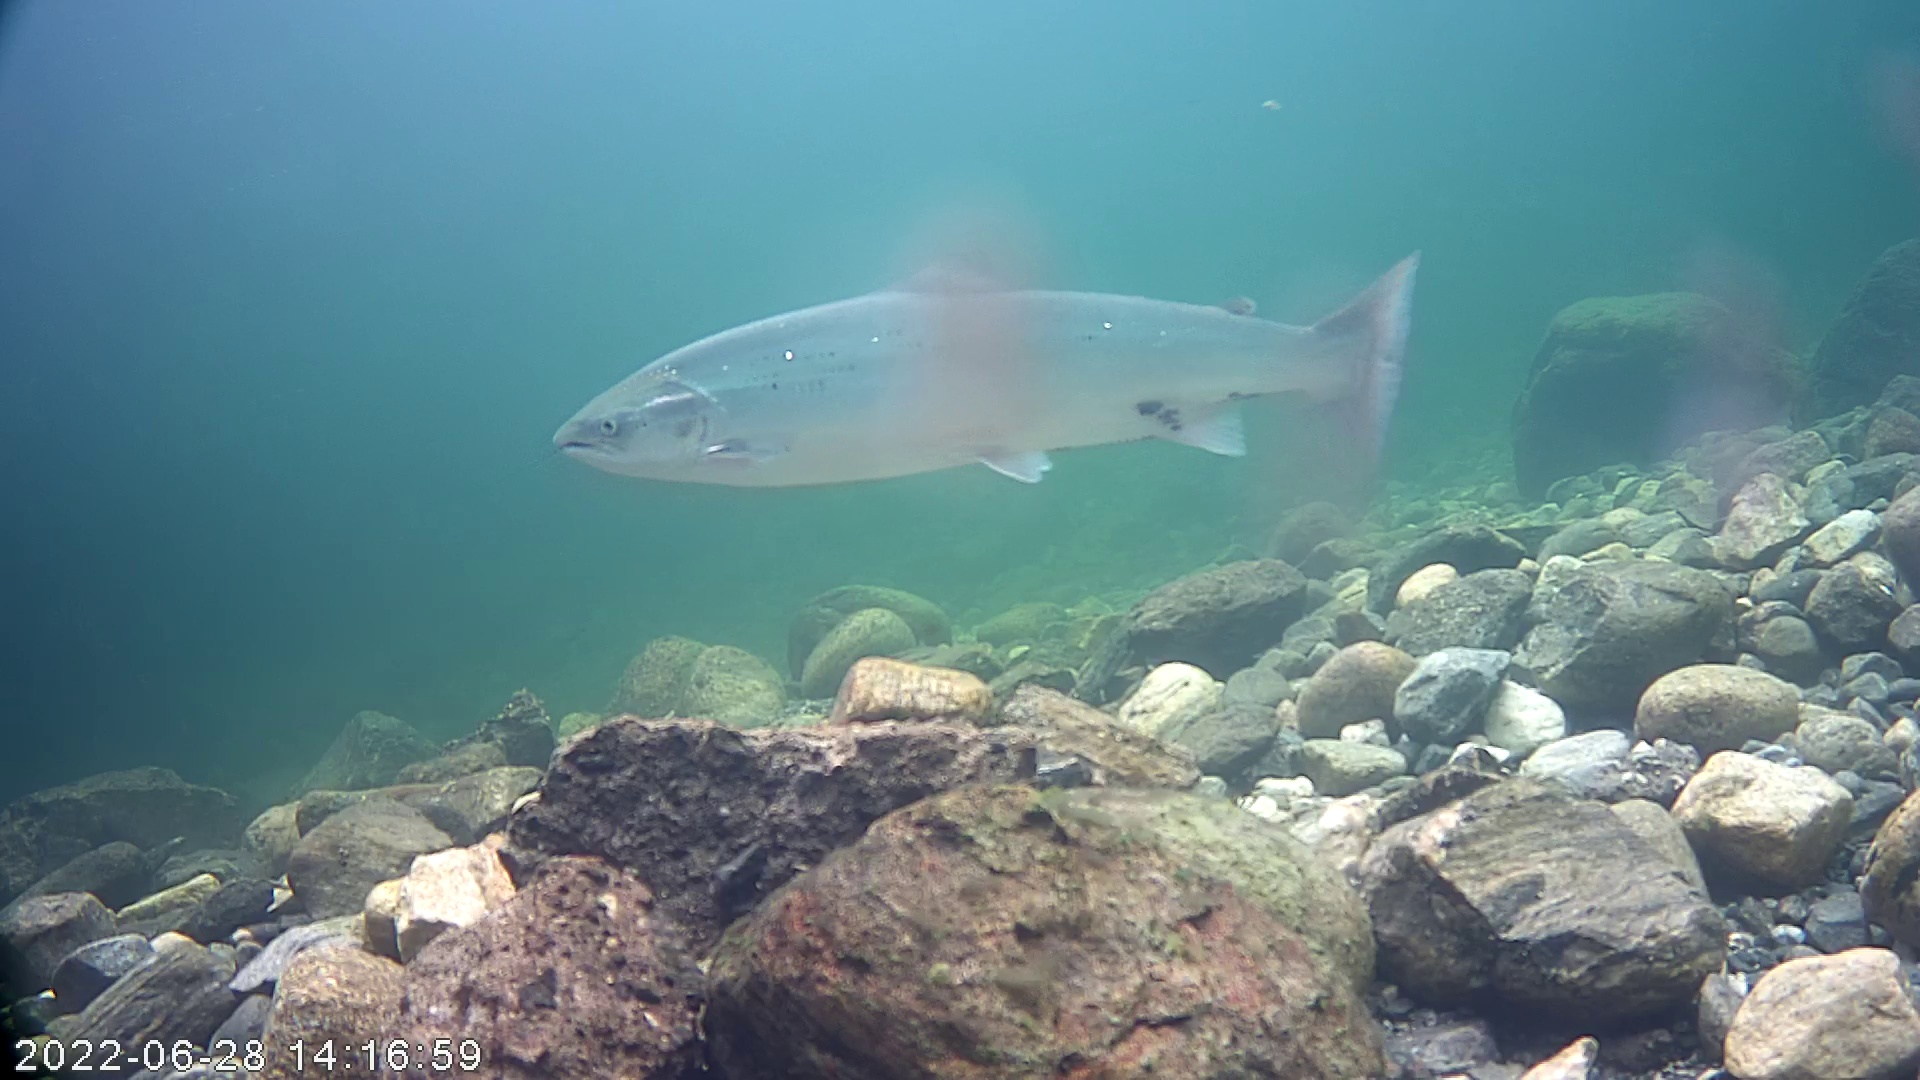salmon: (535, 142, 1429, 558)
